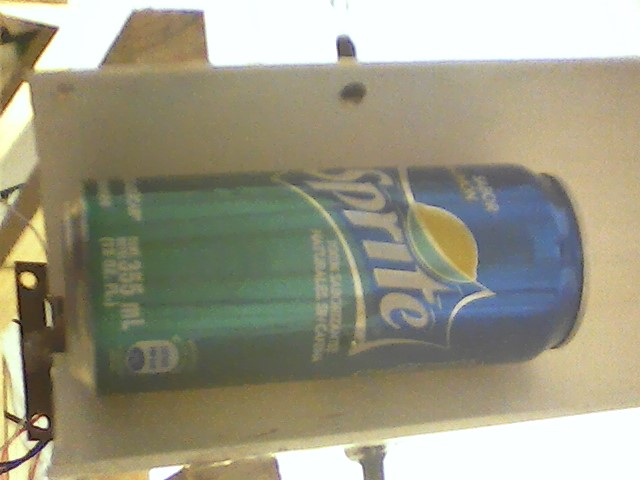lata: (55, 160, 594, 402)
